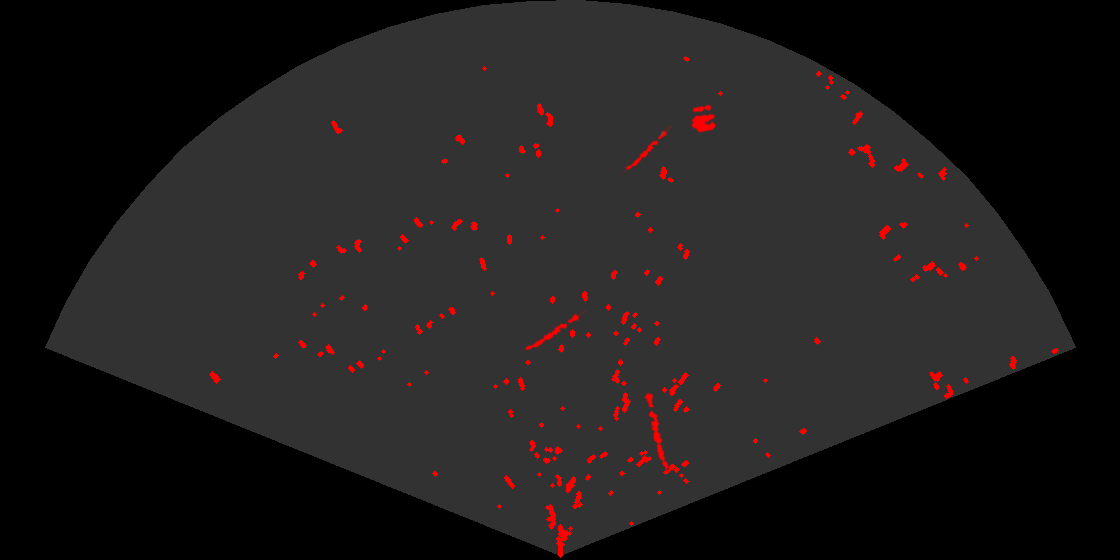ball: (690, 103, 718, 134)
chain: (521, 308, 586, 355), (622, 126, 674, 176), (643, 391, 670, 471)
